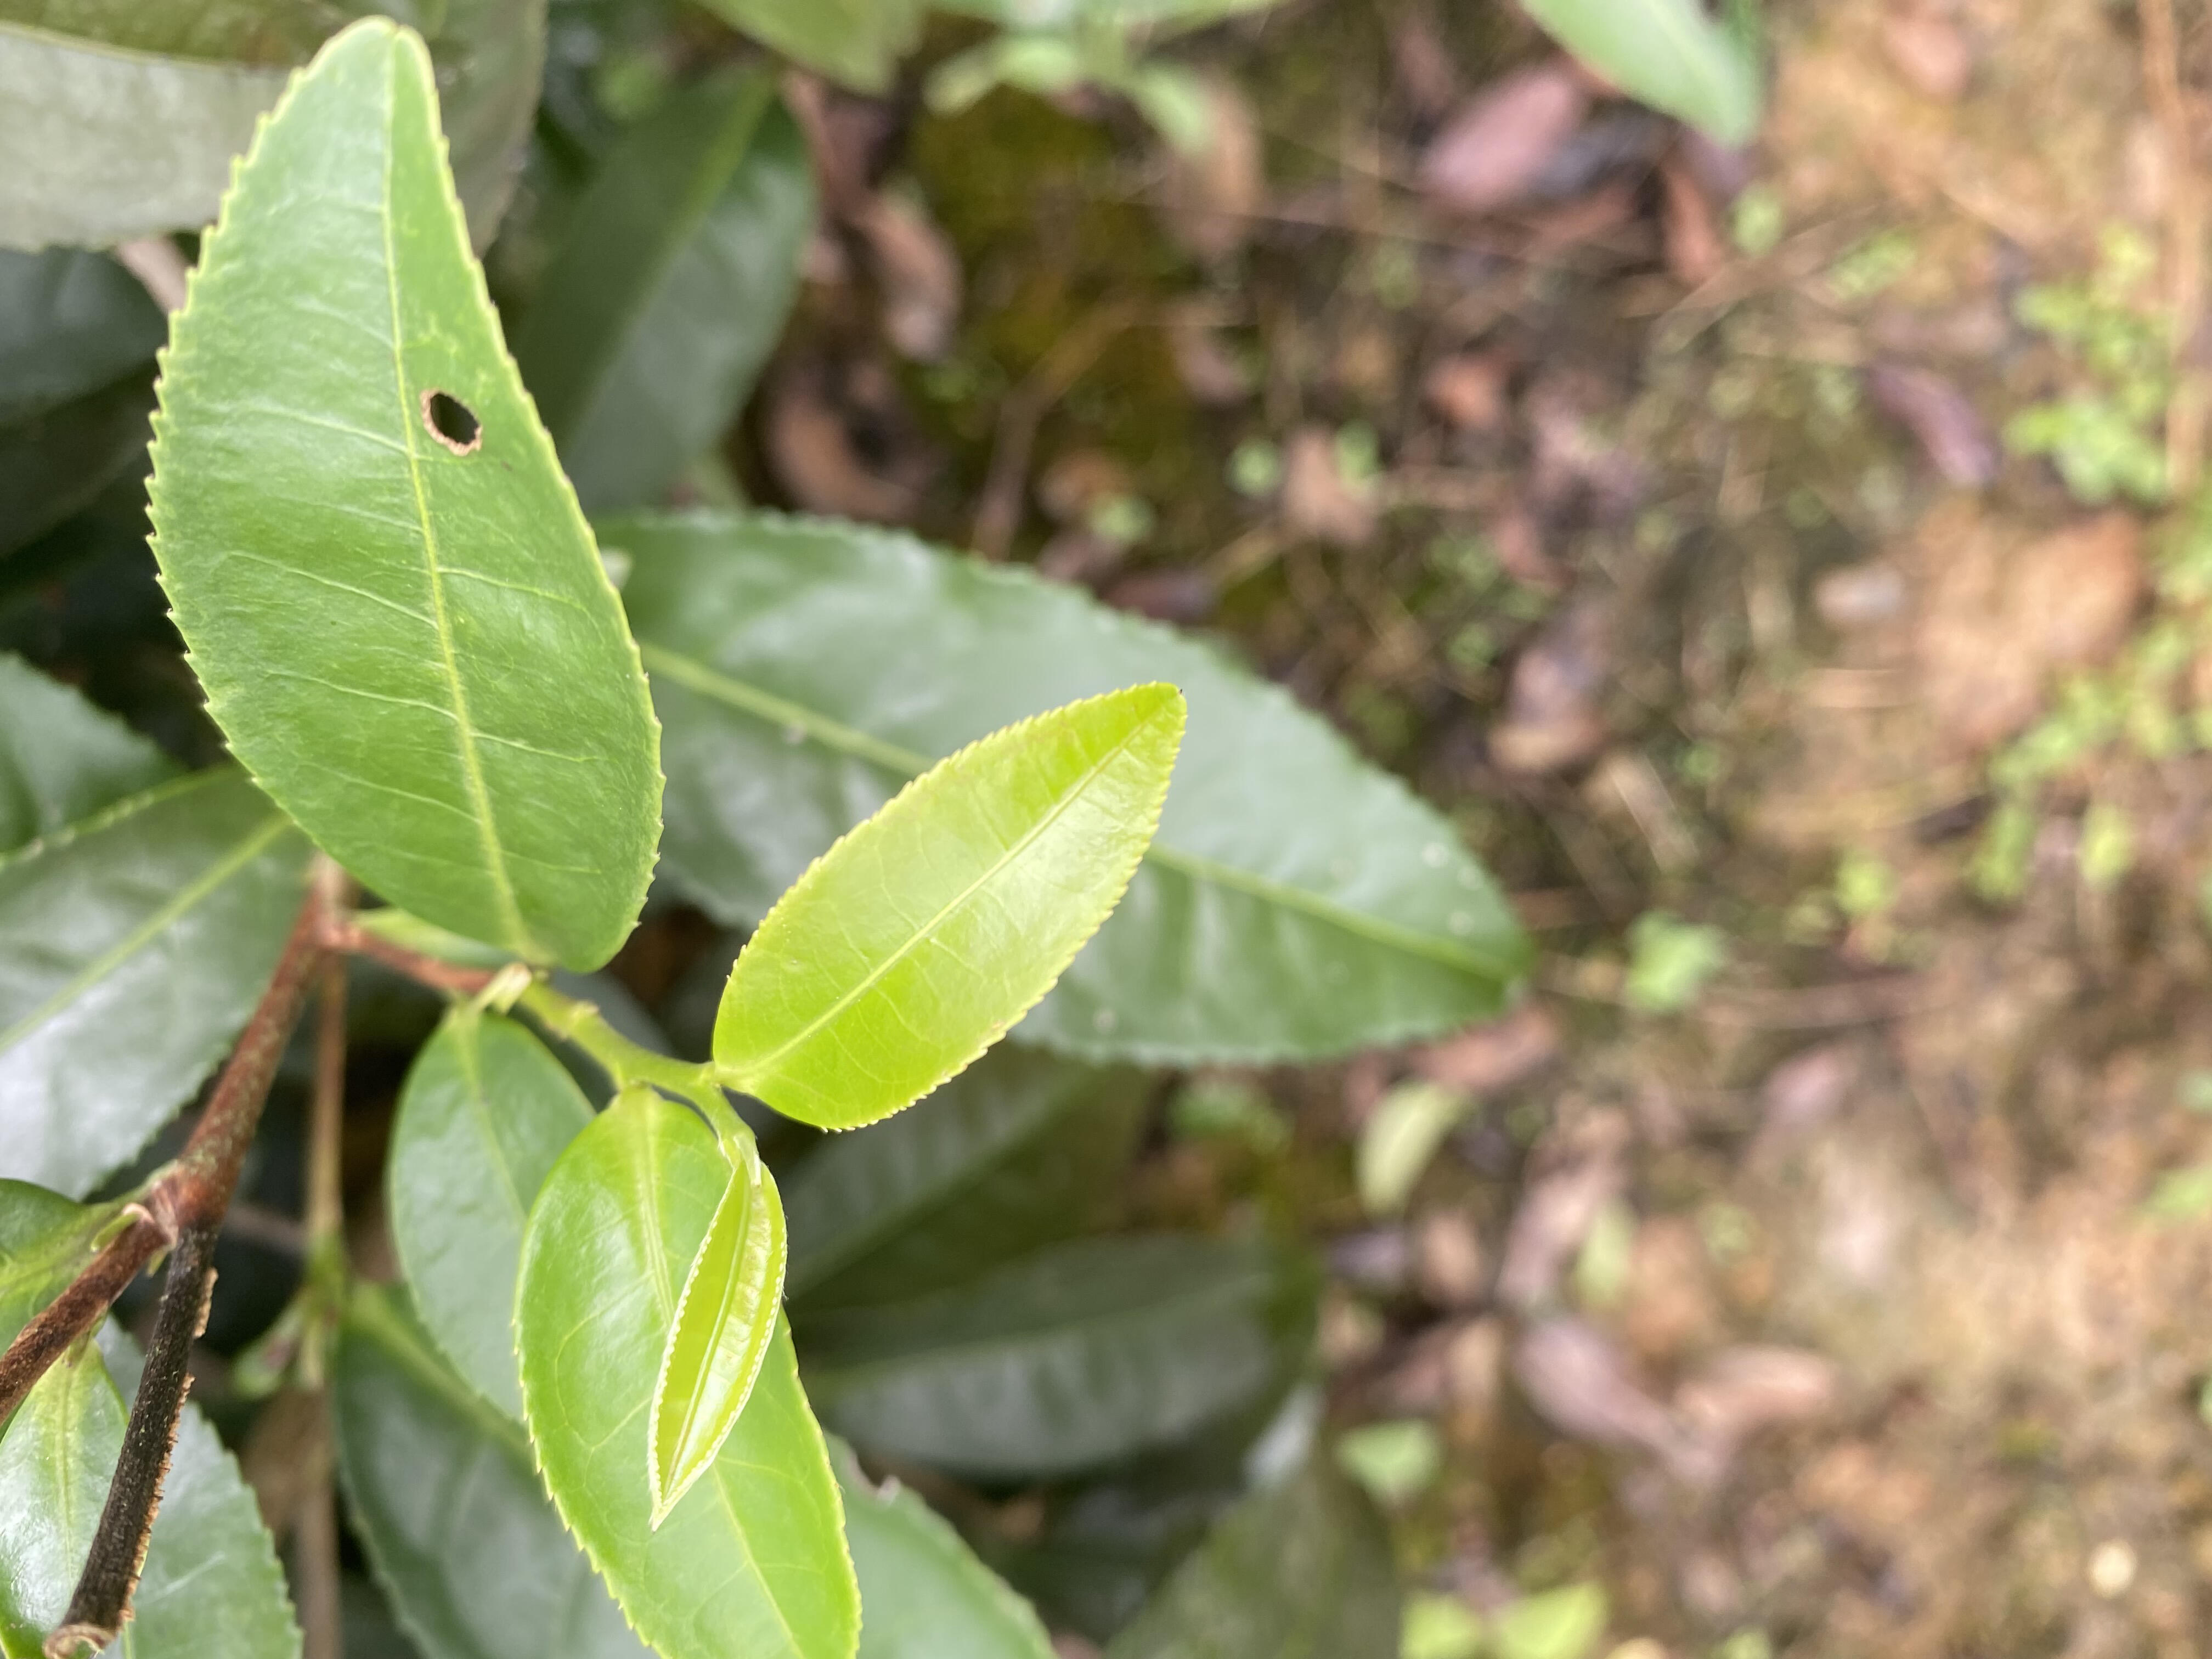chihuo_low: (141, 16, 667, 976)
healthy: (711, 683, 1188, 1138), (509, 1091, 860, 1656), (648, 1159, 787, 1539)
